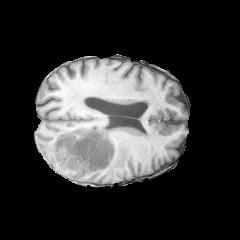glioma: (42, 123, 130, 182)
